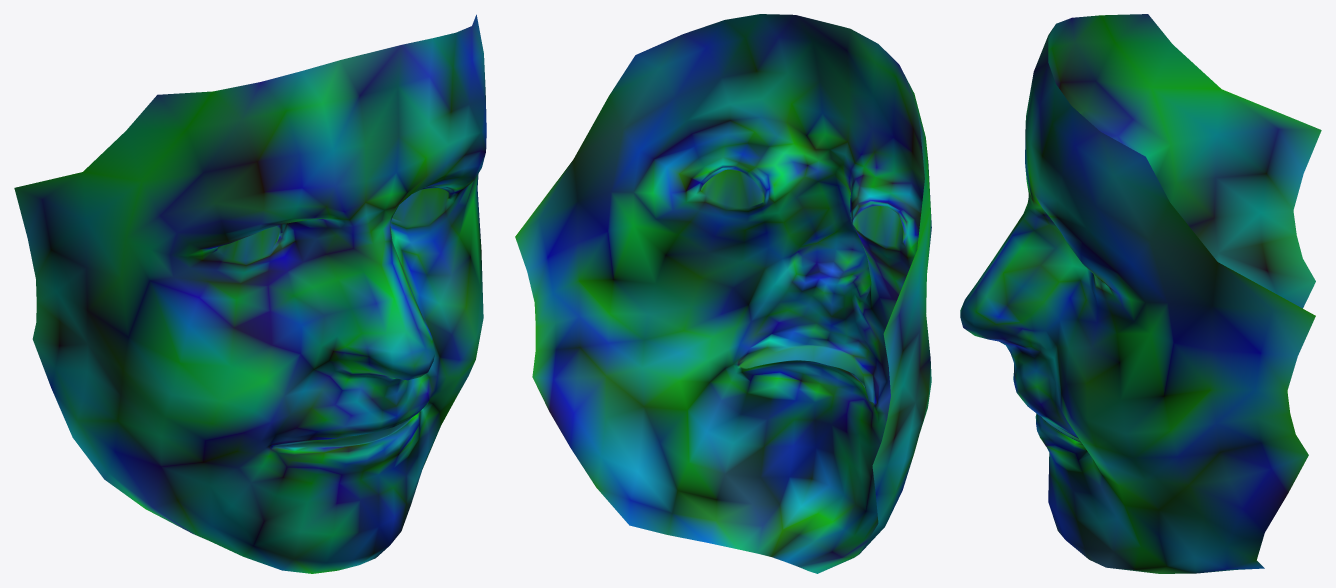
Rendered from new_dense_mesh.fbx.
The picture shows the model from 3 angles, left to right: view 1: azimuth 30°, elevation 25°; view 2: azimuth 150°, elevation 25°; view 3: azimuth 270°, elevation 25°; orthographic projection. The views are drawn at different scales.
Visible parts, largest first — view 1: dense_mesh; view 2: dense_mesh; view 3: dense_mesh.
Part boxes in pixels (x1,y1,x2,y2): dense_mesh: (14, 14, 486, 573); dense_mesh: (515, 14, 931, 573); dense_mesh: (960, 14, 1321, 573).
Bounding box in the file's own units: 15.95 × 19.89 × 12.8.
